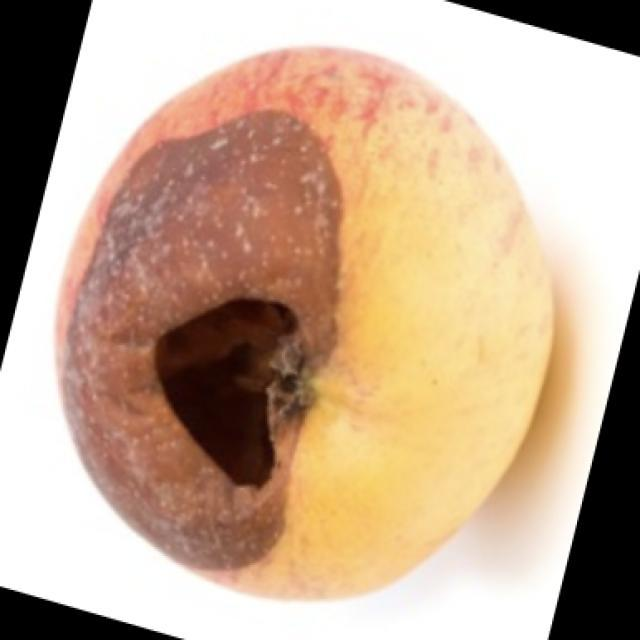Rotten: (60, 45, 545, 598)
